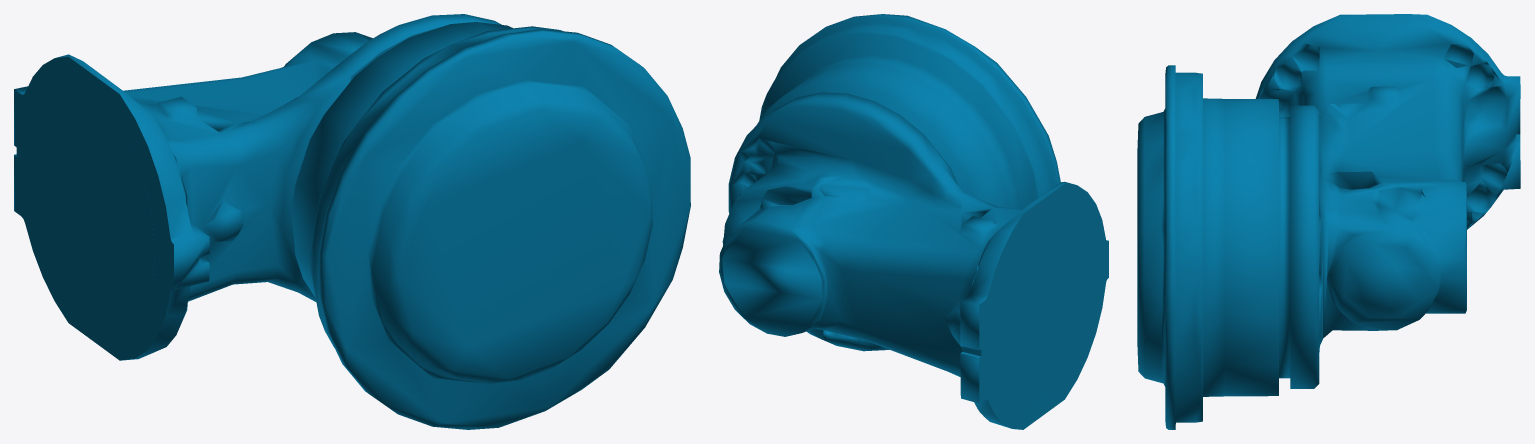
The picture shows the model from 3 angles, left to right: view 1: azimuth 30°, elevation 25°; view 2: azimuth 150°, elevation 25°; view 3: azimuth 270°, elevation 25°; orthographic projection. The views are drawn at different scales.
Parts seen in each view (by area): view 1: mh00215-j00_lk4; view 2: mh00215-j00_lk4; view 3: mh00215-j00_lk4.
Part boxes in pixels (x1=…): mh00215-j00_lk4: x1=14, y1=14, x2=690, y2=429; mh00215-j00_lk4: x1=719, y1=14, x2=1108, y2=429; mh00215-j00_lk4: x1=1137, y1=14, x2=1520, y2=429.
Bounding box in the file's own units: 0.3228 × 0.2671 × 0.254.
